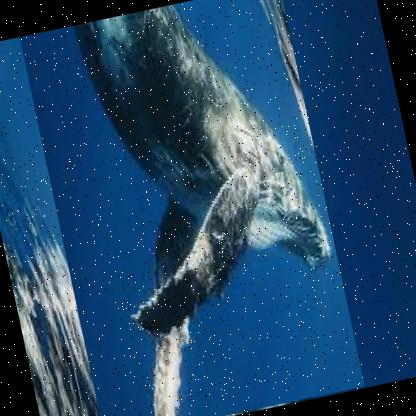blue_whale: (19, 0, 366, 415)
